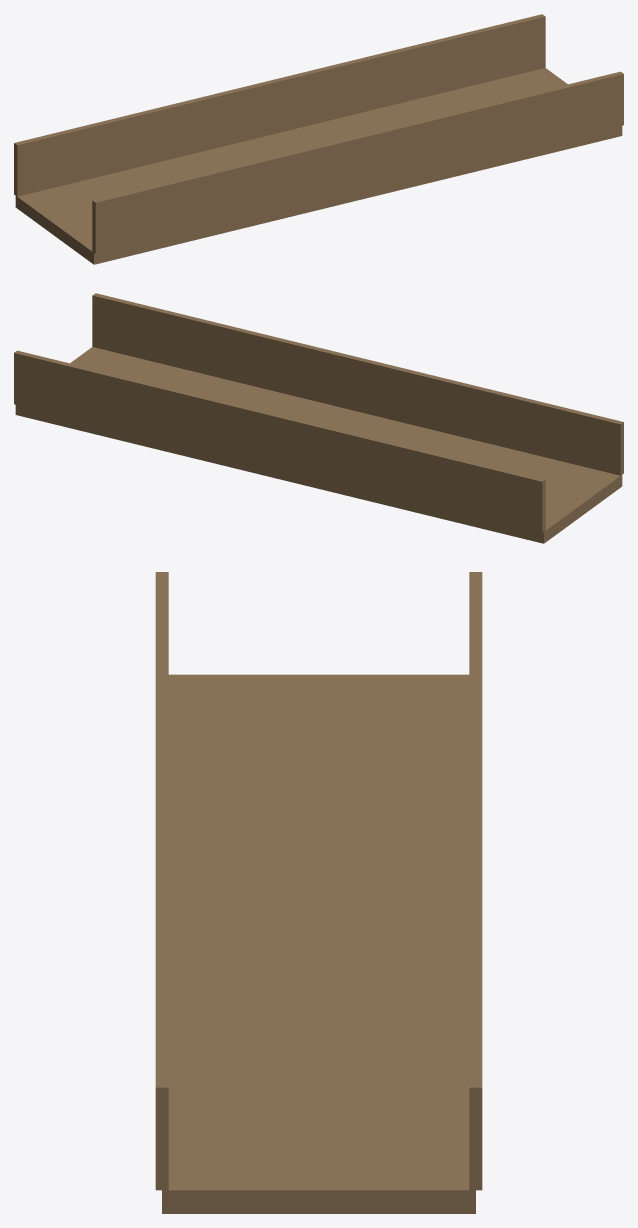
The model's file is ranch_bridge.glb.
3 views of the same model, one above another, from view 1: azimuth 30°, elevation 25°; view 2: azimuth 150°, elevation 25°; view 3: azimuth 270°, elevation 25° (orthographic). The views are drawn at different scales.
Visible parts, largest first — view 1: bridge_rail_22.2-col, bridge_rail_25.8-col, ranch_footbridge_deck-col; view 2: bridge_rail_22.2-col, bridge_rail_25.8-col, ranch_footbridge_deck-col; view 3: ranch_footbridge_deck-col, bridge_rail_22.2-col, bridge_rail_25.8-col.
Part boxes in pixels (x1=…): bridge_rail_22.2-col: x1=14, y1=14, x2=545, y2=196; bridge_rail_25.8-col: x1=92, y1=71, x2=623, y2=253; ranch_footbridge_deck-col: x1=15, y1=68, x2=622, y2=264; bridge_rail_22.2-col: x1=14, y1=350, x2=545, y2=532; bridge_rail_25.8-col: x1=92, y1=293, x2=623, y2=475; ranch_footbridge_deck-col: x1=15, y1=347, x2=622, y2=543; ranch_footbridge_deck-col: x1=162, y1=674, x2=475, y2=1213; bridge_rail_22.2-col: x1=469, y1=572, x2=482, y2=1190; bridge_rail_25.8-col: x1=155, y1=572, x2=168, y2=1190.
Size of the model in its own units: 14 by 1.6 by 3.75.
